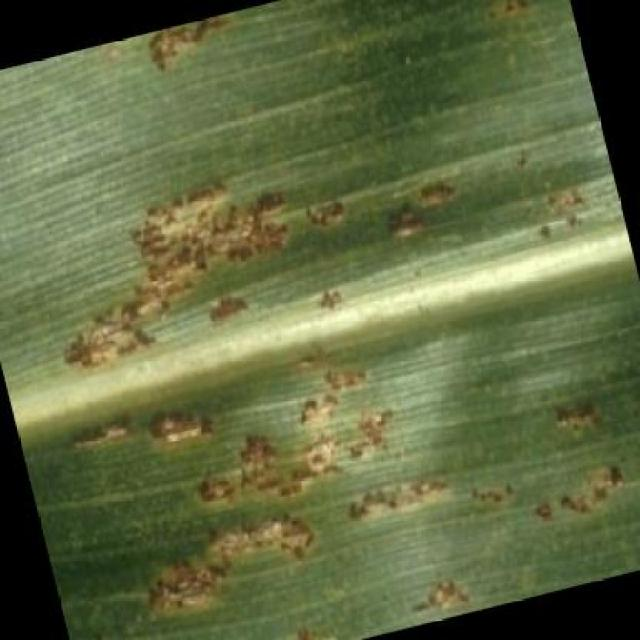Corn_Rust: (67, 87, 563, 589)
